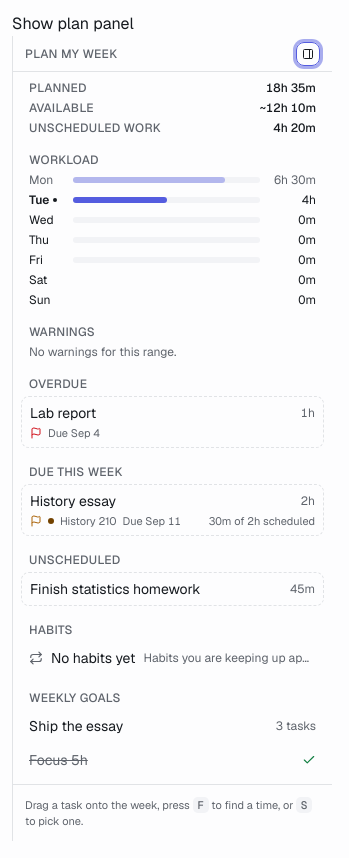
it: PlanningDrawer › hands focus to the board's toggle when its own header button hides it
The width and height of the screenshot is (349, 858).
Click the button named "Hide plan panel" at {"x": 308, "y": 54}, box [296,42,320,66]
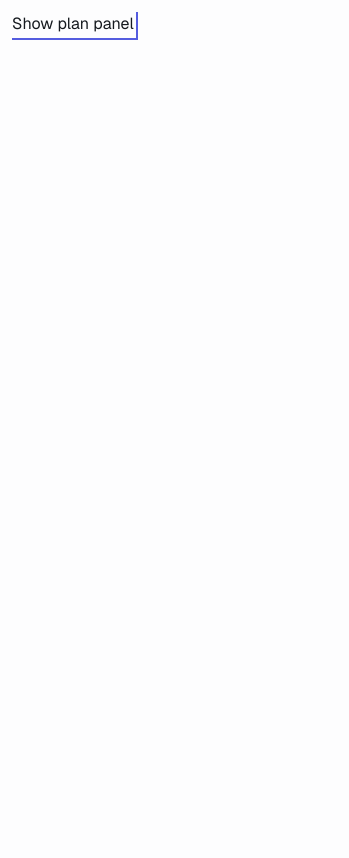
Check: the text "Plan my week" is gone
